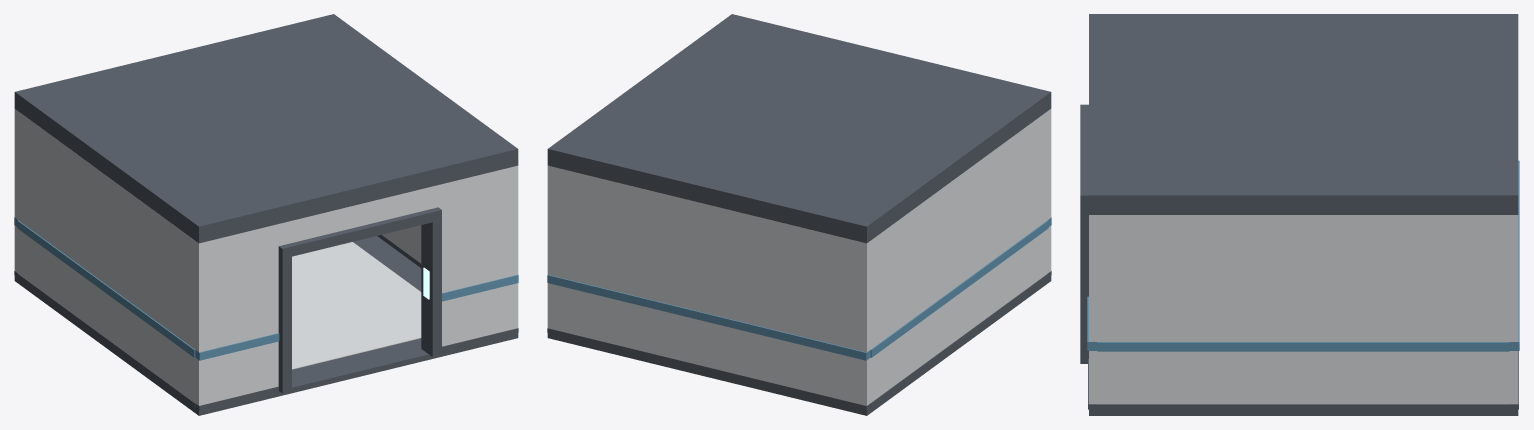
File: spaceship-deck-kit-room-shell-6x6-f44c6877__12560.glb
3 renders of one model, left to right at view 1: azimuth 30°, elevation 25°; view 2: azimuth 150°, elevation 25°; view 3: azimuth 270°, elevation 25°, orthographic. The views are drawn at different scales.
Parts seen in each view (by area): view 1: room-shell-6x6; view 2: room-shell-6x6; view 3: room-shell-6x6.
Part boxes in pixels (x1,y1,x2,y2): room-shell-6x6: [14, 14, 518, 415]; room-shell-6x6: [547, 14, 1051, 415]; room-shell-6x6: [1080, 14, 1519, 415].
Size of the model in its own units: 6.04 by 3.4 by 6.14.
